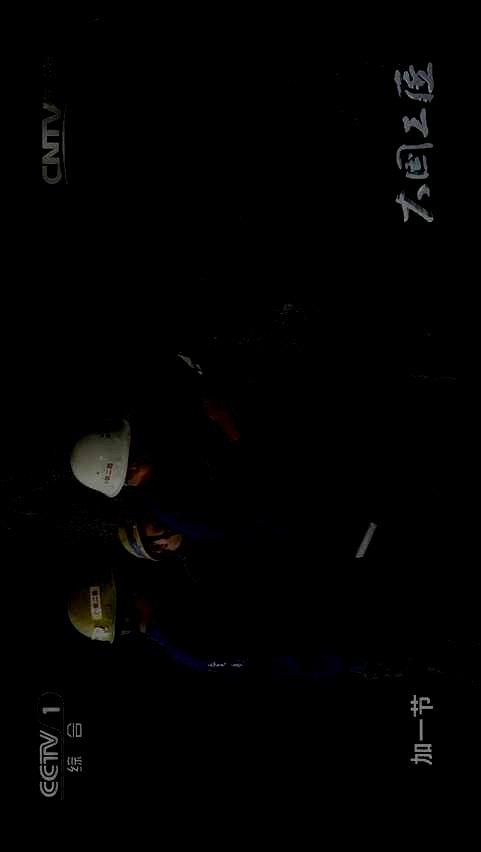helmet: (68, 421, 157, 498), (65, 574, 154, 644), (117, 503, 188, 562)
